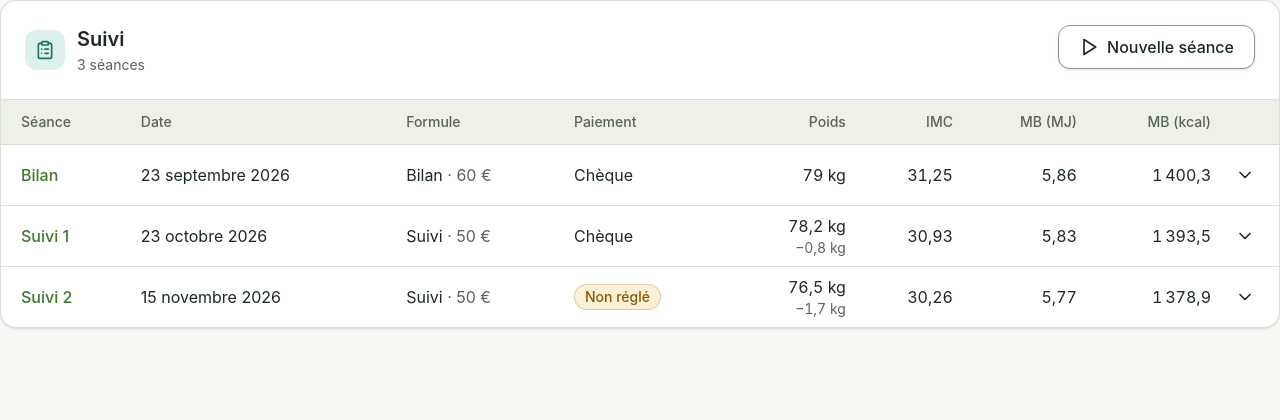
Test: SessionsPanel › unfolds a row to read its texts
Click the button named "Lire les textes : Suivi 1" at (1245, 236), box 1223,214 -> 1267,258
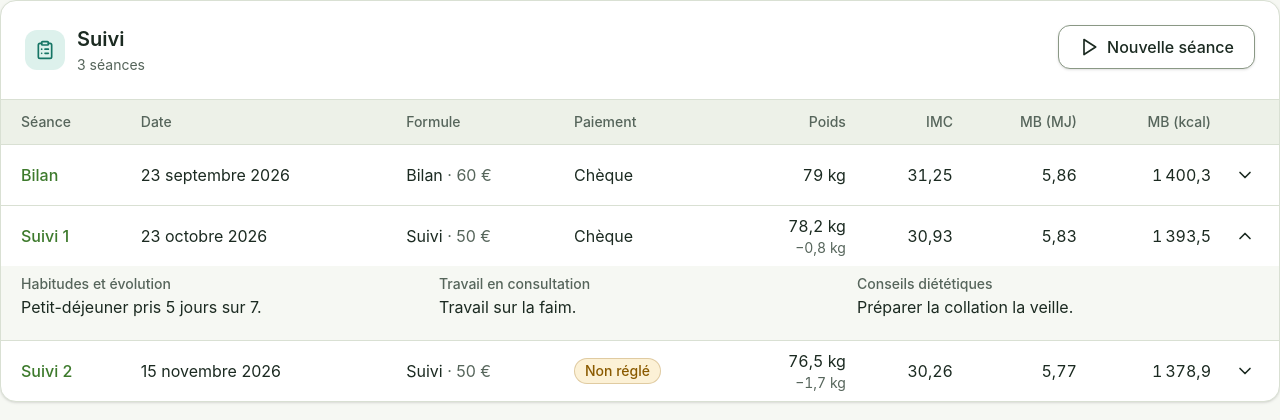
Now the button named "Lire les textes : Suivi 1" is expanded, box 1223,214 -> 1267,258
Now the text "Petit-déjeuner pris 5 jours sur 7." is shown, box 21,297 -> 262,317
Now the text "Préparer la collation la veille." is shown, box 857,297 -> 1073,317
